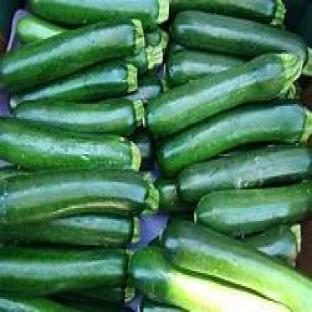Zucchini: (162, 223, 311, 311), (146, 54, 302, 137), (157, 101, 311, 176), (129, 247, 289, 311), (0, 21, 144, 90), (0, 171, 159, 226), (177, 145, 311, 202), (0, 117, 140, 170), (171, 12, 308, 63), (194, 181, 311, 235), (0, 247, 128, 295), (10, 62, 137, 107), (14, 99, 144, 135), (0, 214, 139, 246), (166, 51, 244, 87), (243, 225, 299, 265), (17, 15, 64, 44), (0, 294, 78, 311), (156, 179, 193, 213), (58, 288, 125, 306), (126, 45, 162, 74), (127, 75, 162, 103), (56, 298, 128, 311), (131, 130, 154, 170), (140, 298, 182, 311), (146, 28, 169, 50), (0, 166, 29, 180), (168, 41, 190, 53)
